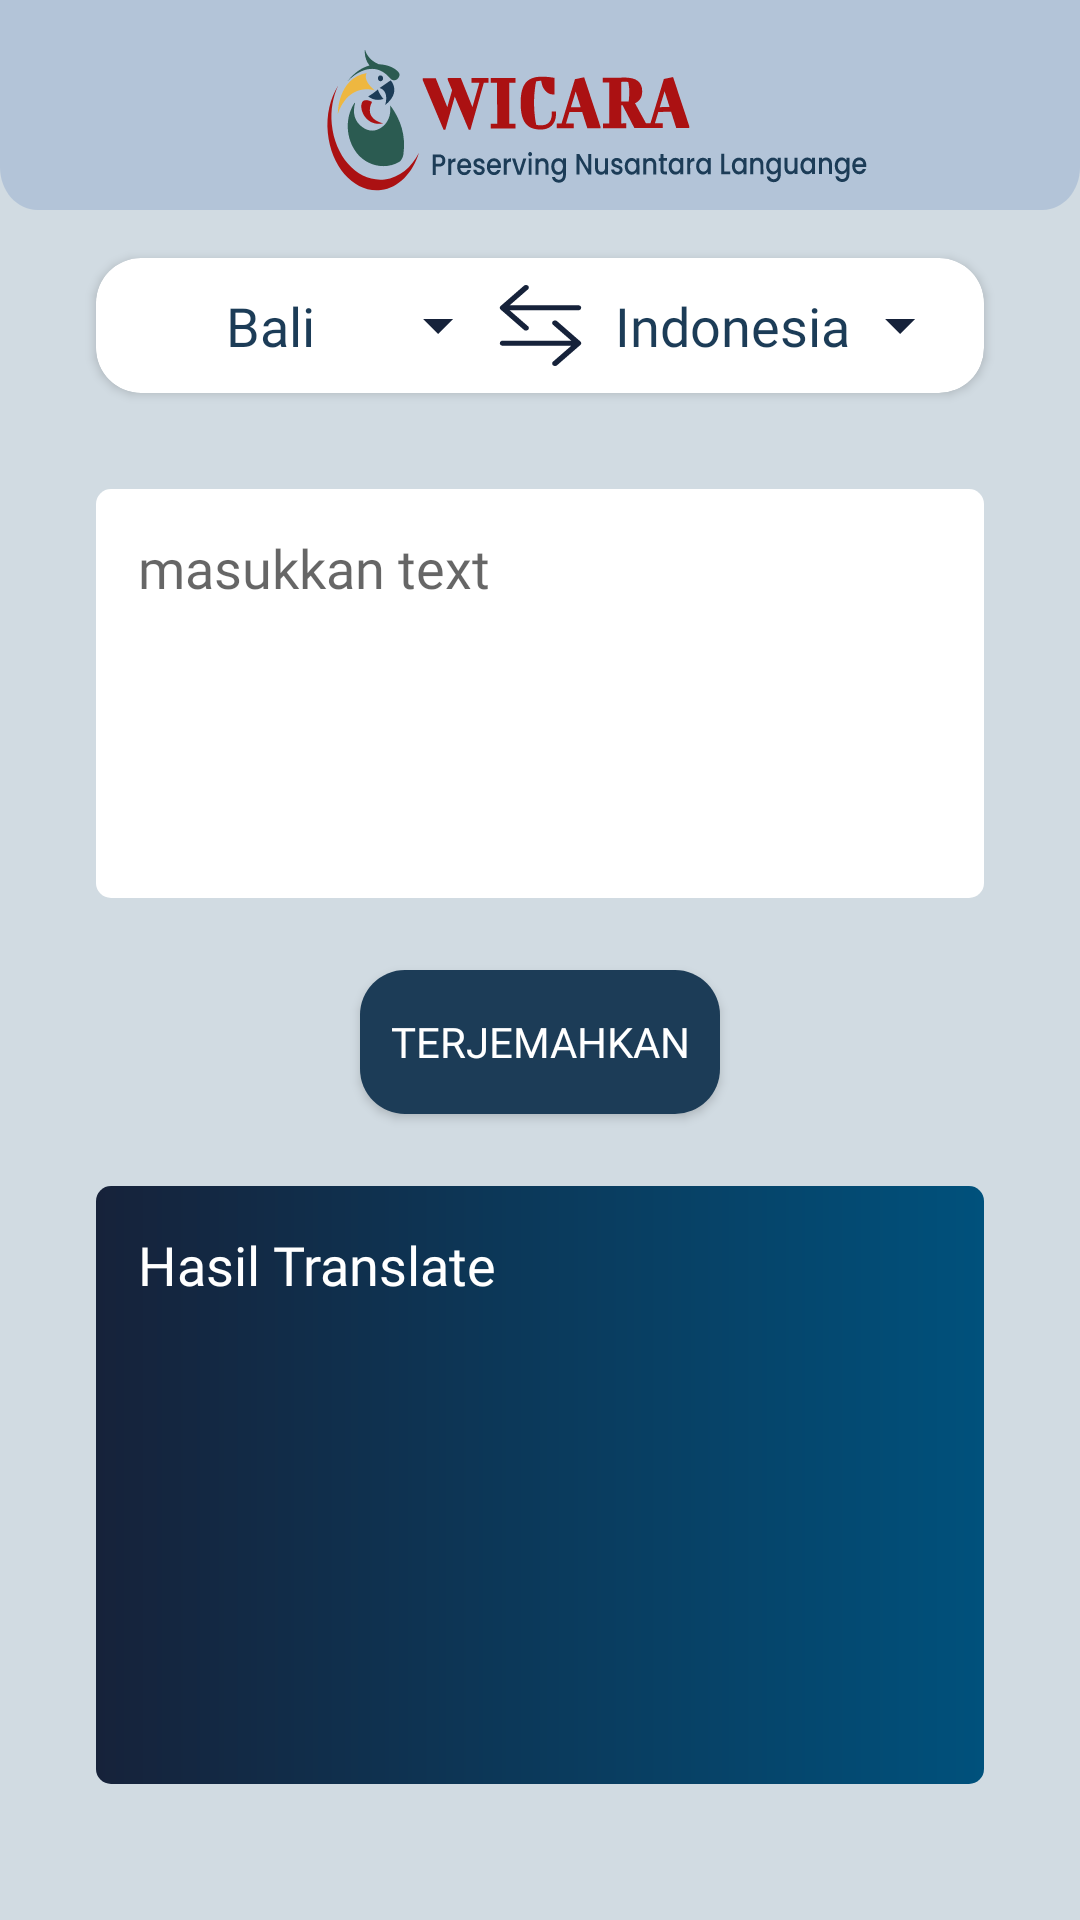

Point at icon controls on the screen. Image size 1080 × 1920, points as point (x, y).
bi arrow left right: point (540, 325)
